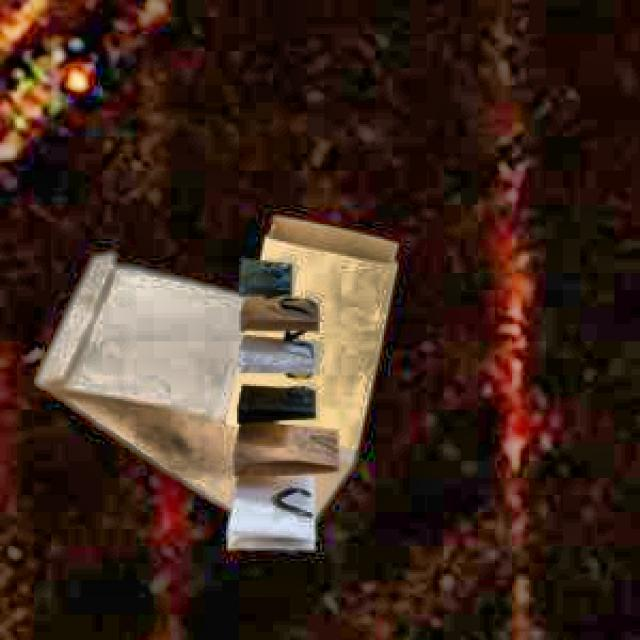Paper-bag: (46, 234, 380, 536), (234, 193, 416, 480), (219, 250, 354, 569)
